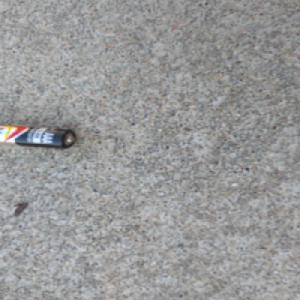Battery: (0, 123, 77, 148)
